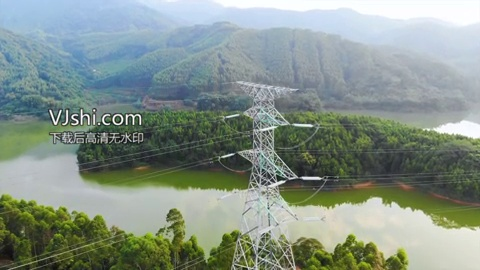tower_body: (225, 78, 303, 270)
tower_foot: (230, 223, 299, 270)
tower_head: (228, 80, 301, 128)
